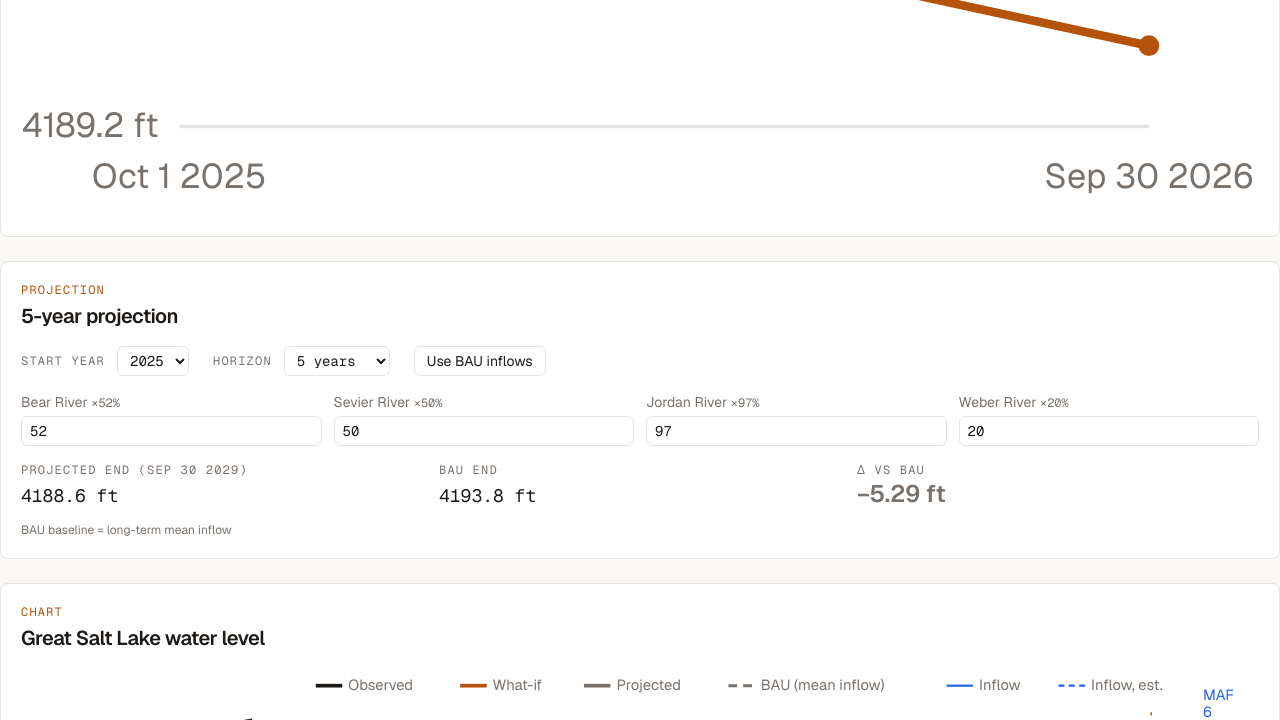
Test: WaterDashboard › the BAU button puts the scenario on the long-term means (Δ vs BAU = 0)
(page scrolled)
Click the button "Use BAU inflows": (480, 361) [414, 346, 546, 376]
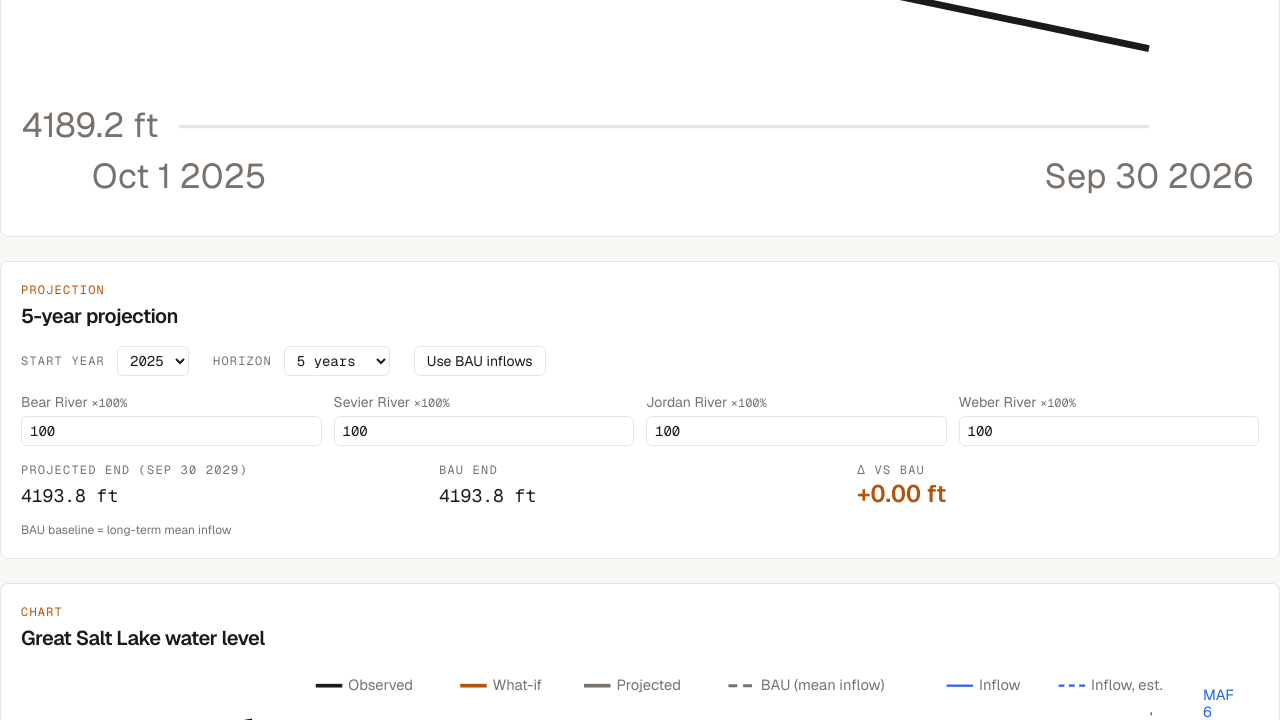
Check: the text "Δ vs BAU +0.00 ft" is shown, box [857, 462, 946, 509]
